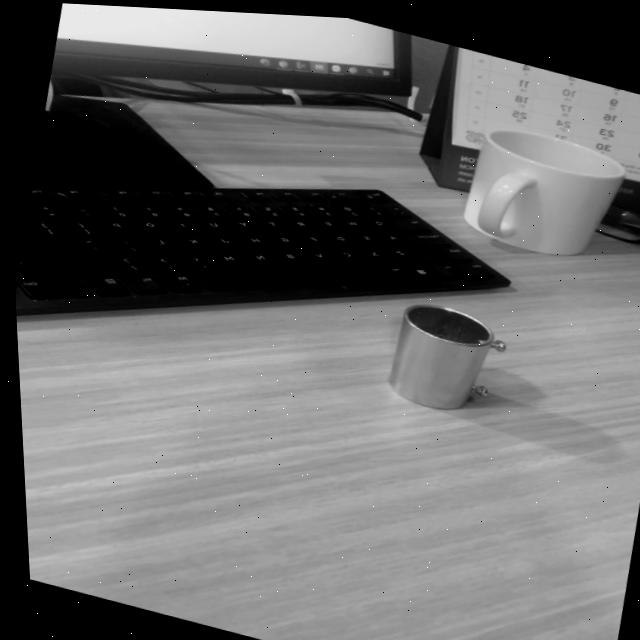Co_Lon: (384, 296, 512, 420)
